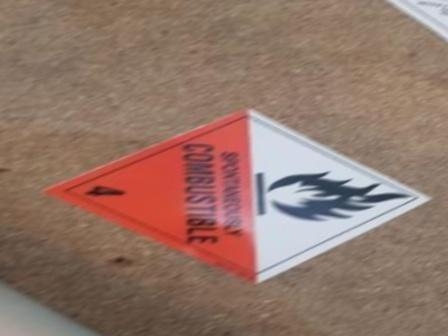spontaneously-combustible: (43, 97, 436, 284)
